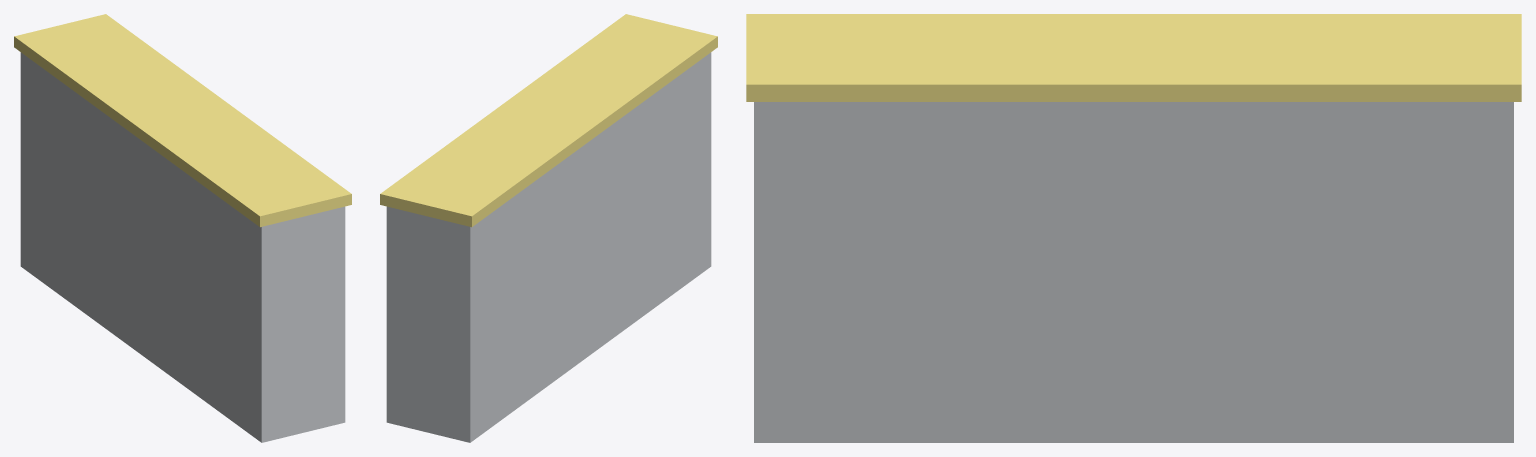
Rendered from Toy_VaultRail_100.fbx.
The picture shows the model from 3 angles, left to right: view 1: azimuth 30°, elevation 25°; view 2: azimuth 150°, elevation 25°; view 3: azimuth 270°, elevation 25°; orthographic projection. The views are drawn at different scales.
Visible parts, largest first — view 1: Toy_VaultRail_100; view 2: Toy_VaultRail_100; view 3: Toy_VaultRail_100.
Boxes of the visible parts, x1,y1,x2,y2 form: Toy_VaultRail_100: (14,14,351,442); Toy_VaultRail_100: (380,14,717,442); Toy_VaultRail_100: (746,14,1521,442).
Size of the model in its own units: 0.44 by 1.05 by 2.04.
